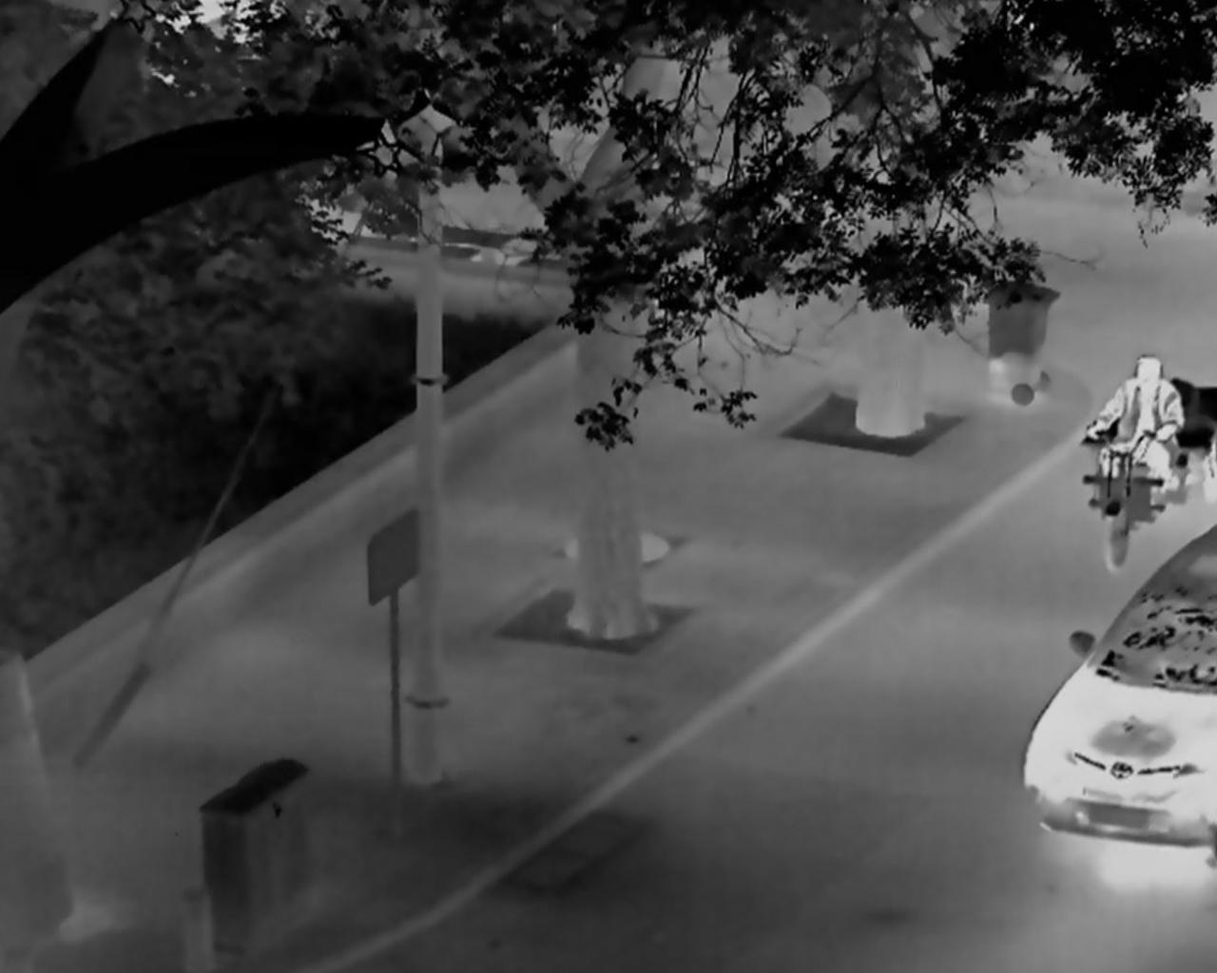person: (1084, 355, 1183, 503)
